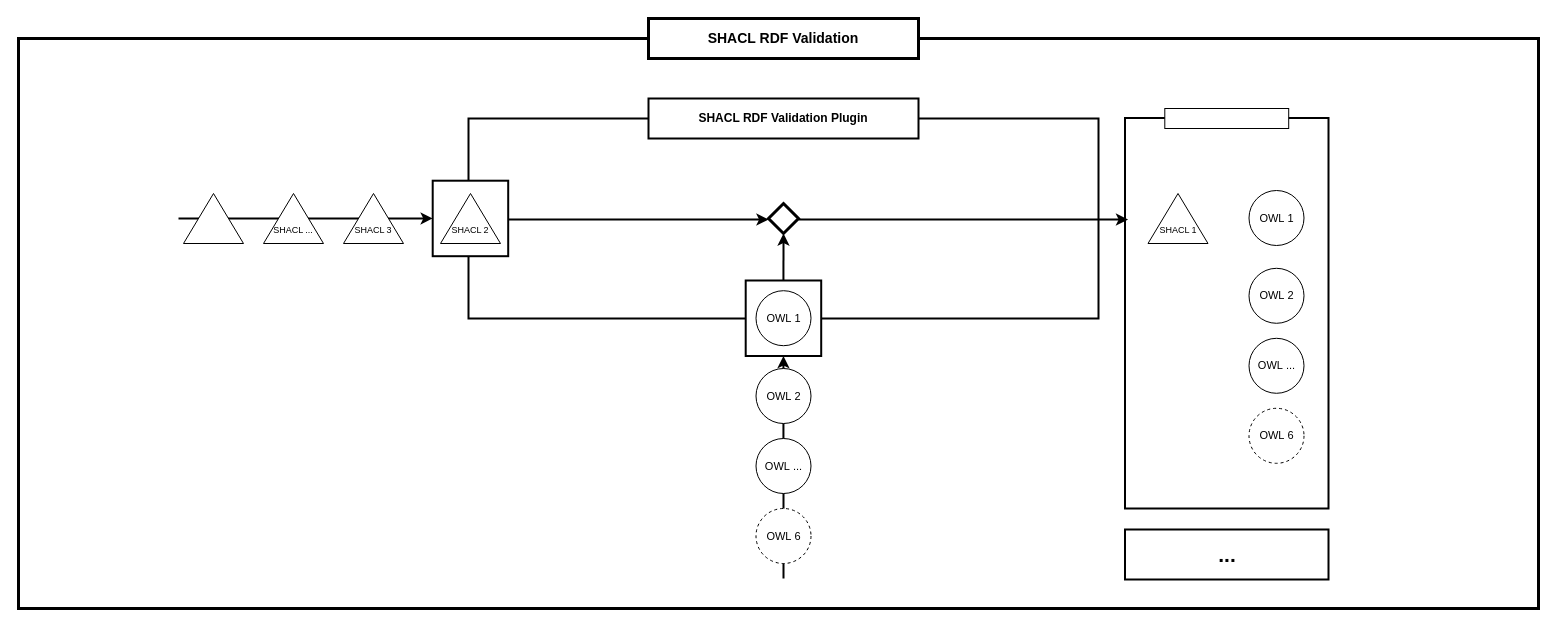
Some shapes in this 1557 by 627 pixel diagram are drawn without their labels. The shapes that lost their labels are listed below. From the top down, each one's centre as x and y in pixels, then its label:
At point 1226,118: "Validation Results".
At point 213,218: "SHACL 7".
